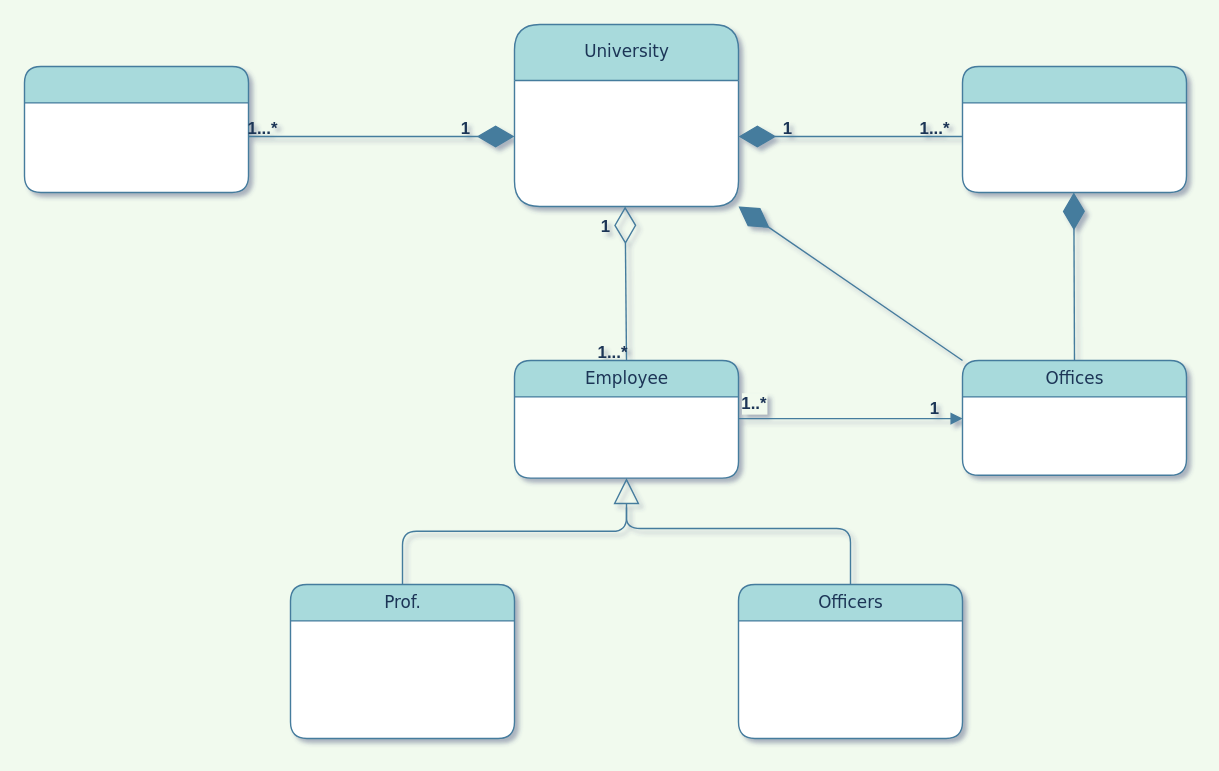
This 1219x771 diagram has some shape labels left out. The centre of each missing label's shape, as x and y in pixels:
Classrooms: (x=135, y=128)
Department: (x=1073, y=128)
